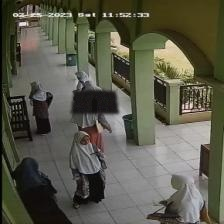Cadar_Niqab: (71, 79, 118, 113)
